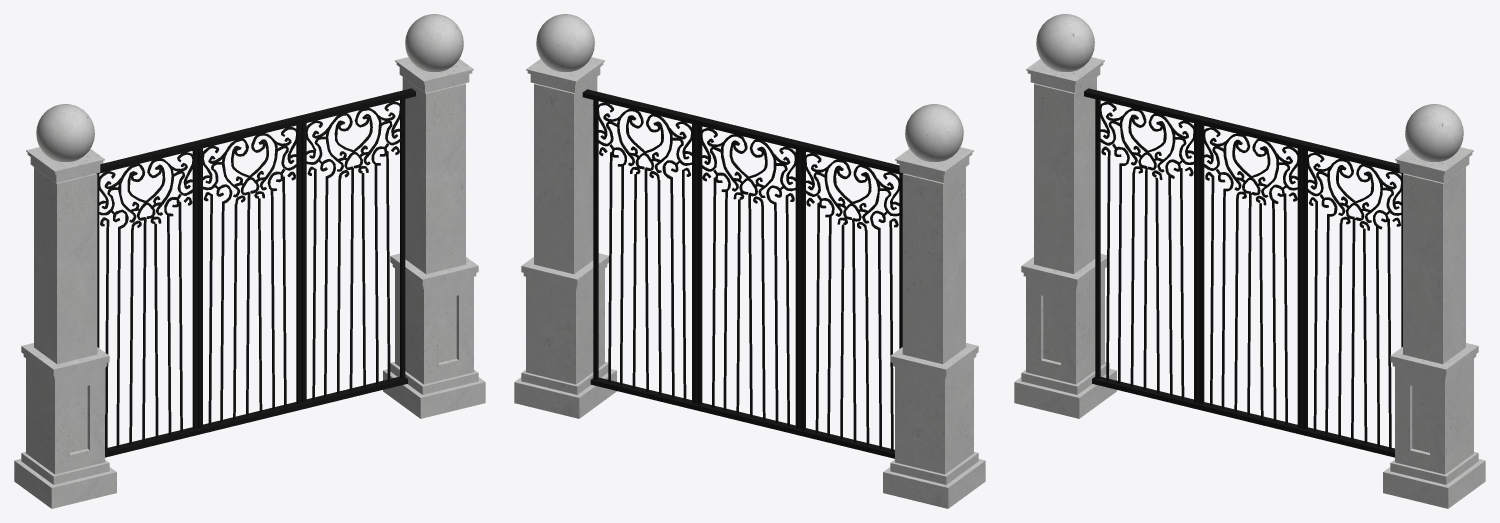
Rendered from Fence 9.FBX.
3 renders of one model, left to right at view 1: azimuth 30°, elevation 25°; view 2: azimuth 150°, elevation 25°; view 3: azimuth 330°, elevation 25°, orthographic.
Visible parts, largest first — view 1: Fence 9, column 1, column 2; view 2: Fence 9, column 1, column 2; view 3: Fence 9, column 2, column 1.
Boxes of the visible parts, x1,y1,x2,y2 form: Fence 9: (96, 88, 415, 457); column 1: (14, 104, 116, 508); column 2: (383, 14, 485, 418); Fence 9: (582, 89, 903, 458); column 1: (883, 104, 985, 508); column 2: (514, 14, 616, 418); Fence 9: (1084, 88, 1403, 457); column 2: (1383, 104, 1485, 508); column 1: (1014, 14, 1116, 418).
Bounding box in the file's own units: 295 × 247 × 44.31.
